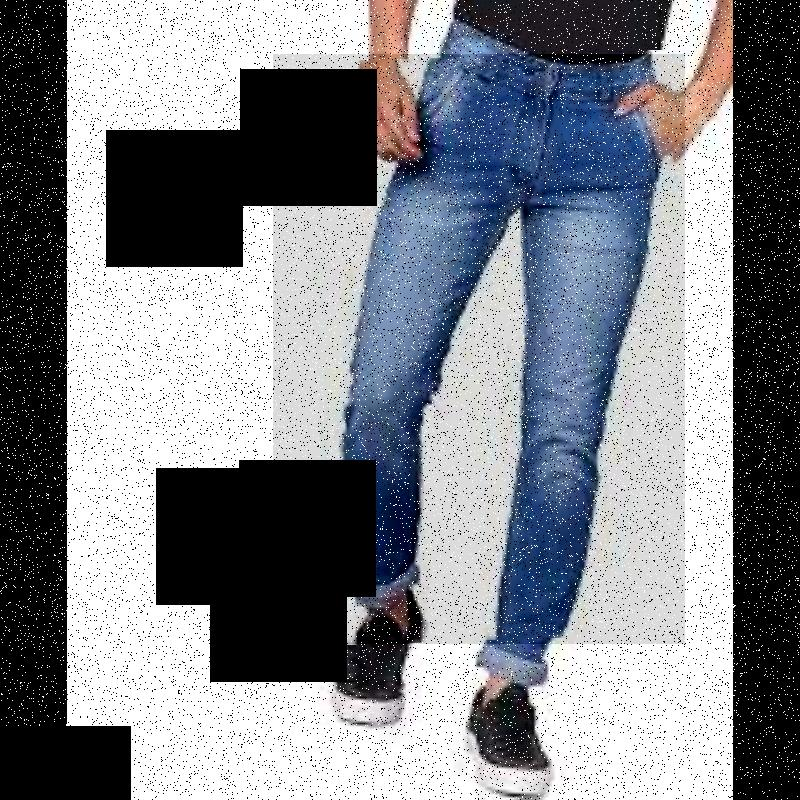Jeans: (273, 54, 685, 644)
